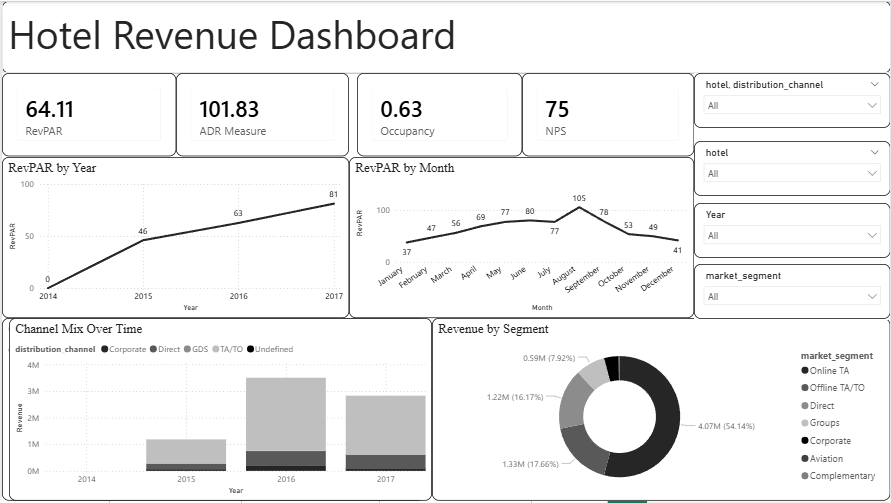

The page's visual inventory and layout, read from the dashboard file:
{"tool":"powerbi","page":{"name":"Executive Summary","canvas":[1280,720],"ordinal":0},"visuals":[{"type":"textbox","box":[0,0,1280,104.3],"z":0},{"type":"slicer","fields":{"Values":["hotel_bookings.hotel"]},"box":[996.6,202.4,283.4,79.4],"z":0,"group":"g1"},{"type":"cardVisual","fields":{"Data":["hotel_bookings.RevPAR"]},"box":[0,104.3,250.7,119.9],"z":1000},{"type":"slicer","fields":{"Values":["hotel_bookings.reservation_status_date.Variation.Date Hierarchy.Year"]},"box":[996.6,291.2,283.4,79.4],"z":1000,"group":"g1"},{"type":"cardVisual","fields":{"Data":["hotel_bookings.ADR Measure"]},"box":[250.7,104.3,249.1,119.9],"z":2000},{"type":"slicer","fields":{"Values":["hotel_bookings.market_segment"]},"box":[996.6,379.9,283.4,79.4],"z":2000,"group":"g1"},{"type":"cardVisual","fields":{"Data":["hotel_bookings.Occupancy"]},"box":[510.8,104.3,238.2,119.9],"z":3000},{"type":"slicer","fields":{"Values":["hotel_bookings.hotel","hotel_bookings.distribution_channel"]},"box":[996.6,104.3,283.4,79.4],"z":3000,"group":"g1"},{"type":"cardVisual","fields":{"Data":["hotel_bookings.NPS"]},"box":[749,104.3,247.6,119.9],"z":4000},{"type":"lineChart","fields":{"Category":["hotel_bookings.reservation_status_date.Variation.Date Hierarchy.Year"],"Y":["hotel_bookings.RevPAR"]},"box":[0,224.2,499.9,232],"z":5000},{"type":"lineChart","fields":{"Y":["hotel_bookings.RevPAR"],"Category":["hotel_bookings.reservation_status_date.Variation.Date Hierarchy.Month"]},"box":[499.9,224.2,496.7,232],"z":6000},{"type":"columnChart","title":"Channel Mix Over Time","fields":{"Category":["hotel_bookings.reservation_status_date.Variation.Date Hierarchy.Year"],"Series":["hotel_bookings.distribution_channel"],"Y":["hotel_bookings.Revenue"]},"box":[0,456.3,608.9,263.2],"z":7000},{"type":"donutChart","title":"Revenue by Segment","fields":{"Category":["hotel_bookings.market_segment"],"Y":["hotel_bookings.Revenue"]},"box":[619.8,456.3,660.2,263.2],"z":8000},{"type":"columnChart","title":"Channel Mix Over Time","fields":{"Category":["hotel_bookings.reservation_status_date.Variation.Date Hierarchy.Year"],"Series":["hotel_bookings.distribution_channel"],"Y":["hotel_bookings.Revenue"]},"box":[10,456.8,608.9,263.2],"z":9000},{"type":"group","id":"g1","title":"Group 1","box":[996.6,104.3,283.4,355],"z":10000}]}

Visuals, with their boxes in screenshot pixels (x1, y1, x2, y2), scaled from the page's 1280x720 canvas onto the 891x503 screenshot:
textbox: bbox(0, 0, 890, 73)
slicer - hotel_bookings.hotel: bbox(694, 141, 890, 197)
cardVisual - hotel_bookings.RevPAR: bbox(0, 73, 175, 157)
slicer - hotel_bookings.reservation_status_date.Variation.Date Hierarchy.Year: bbox(694, 203, 890, 259)
cardVisual - hotel_bookings.ADR Measure: bbox(175, 73, 348, 157)
slicer - hotel_bookings.market_segment: bbox(694, 265, 890, 321)
cardVisual - hotel_bookings.Occupancy: bbox(356, 73, 521, 157)
slicer - hotel_bookings.hotel x hotel_bookings.distribution_channel: bbox(694, 73, 890, 128)
cardVisual - hotel_bookings.NPS: bbox(521, 73, 694, 157)
lineChart - hotel_bookings.reservation_status_date.Variation.Date Hierarchy.Year x hotel_bookings.RevPAR: bbox(0, 157, 348, 319)
lineChart - hotel_bookings.RevPAR x hotel_bookings.reservation_status_date.Variation.Date Hierarchy.Month: bbox(348, 157, 694, 319)
"Channel Mix Over Time" columnChart: bbox(0, 319, 424, 502)
"Revenue by Segment" donutChart: bbox(431, 319, 890, 502)
"Channel Mix Over Time" columnChart: bbox(7, 319, 431, 502)
"Group 1" group: bbox(694, 73, 890, 321)
